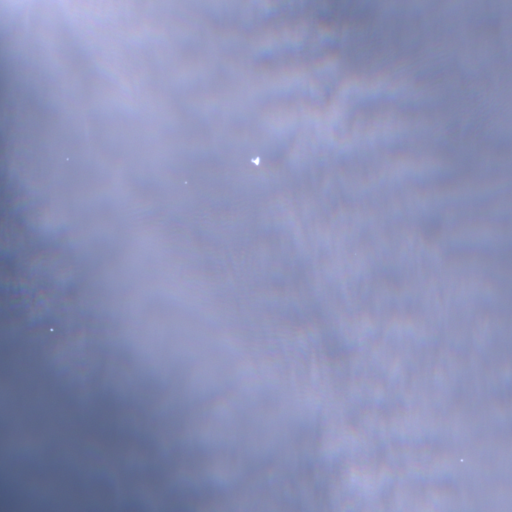Iceberg: (251, 156, 259, 164), (50, 328, 53, 331), (66, 158, 68, 160), (461, 459, 462, 461), (185, 182, 186, 183)
